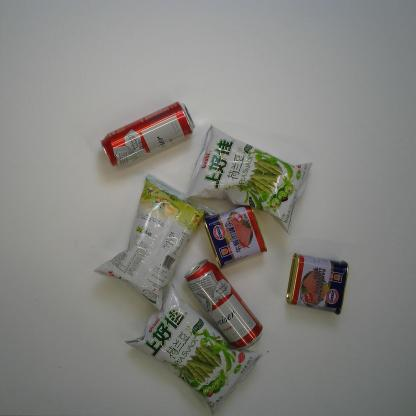Alcohol: (184, 259, 264, 350), (100, 100, 195, 167)
Canned Food: (203, 204, 268, 270), (286, 253, 350, 316)
Puffed Food: (124, 283, 263, 416), (92, 173, 215, 311), (184, 124, 314, 235)
